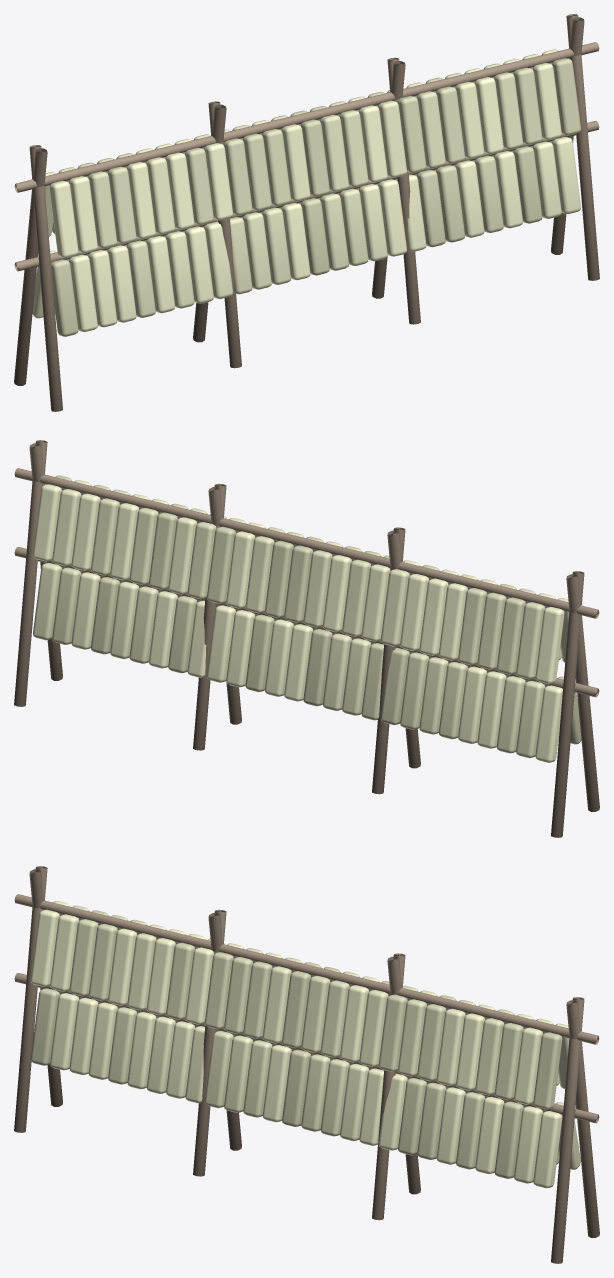
Rendered from hay_rack.glb.
The picture shows the model from 3 angles, top to bottom: view 1: azimuth 30°, elevation 25°; view 2: azimuth 150°, elevation 25°; view 3: azimuth 330°, elevation 25°; orthographic projection.
Visible parts, largest first — view 1: hay_rack; view 2: hay_rack; view 3: hay_rack.
Part boxes in pixels (left/top/right/bottom): hay_rack: left=14, top=14, right=599, bottom=411; hay_rack: left=14, top=440, right=599, bottom=837; hay_rack: left=14, top=866, right=599, bottom=1263.
Size of the model in its own units: 5.4 by 2.22 by 0.6988.
